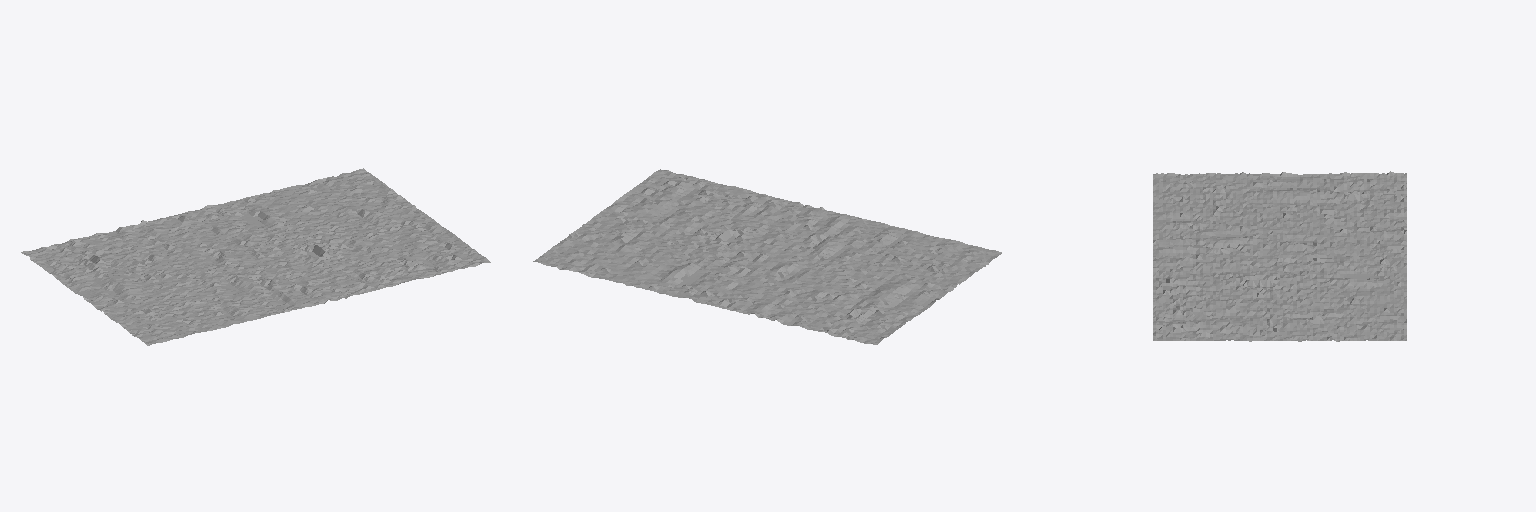
Rendered from terrain2.obj.
3 views of the same model, side by side, from view 1: azimuth 30°, elevation 25°; view 2: azimuth 150°, elevation 25°; view 3: azimuth 270°, elevation 25° (orthographic).
Visible parts, largest first — view 1: Plane; view 2: Plane; view 3: Plane.
Part boxes in pixels (x1,y1,x2,y2): Plane: (21, 168, 490, 345); Plane: (533, 169, 1001, 344); Plane: (1153, 171, 1406, 341).
Bounding box in the file's own units: 1.56 × 0.0247 × 1.